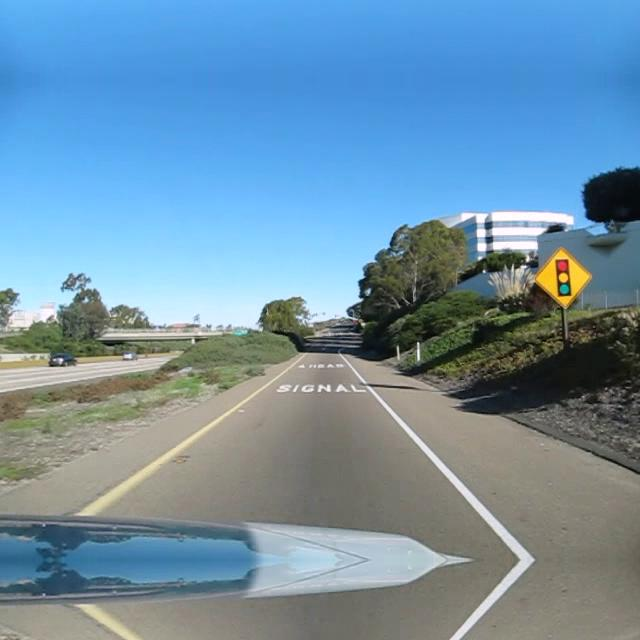signalAhead: (532, 246, 592, 308)
